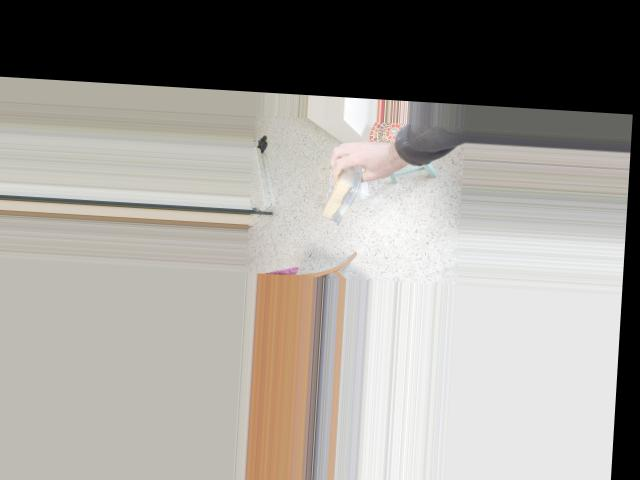cheese: (315, 150, 370, 230)
